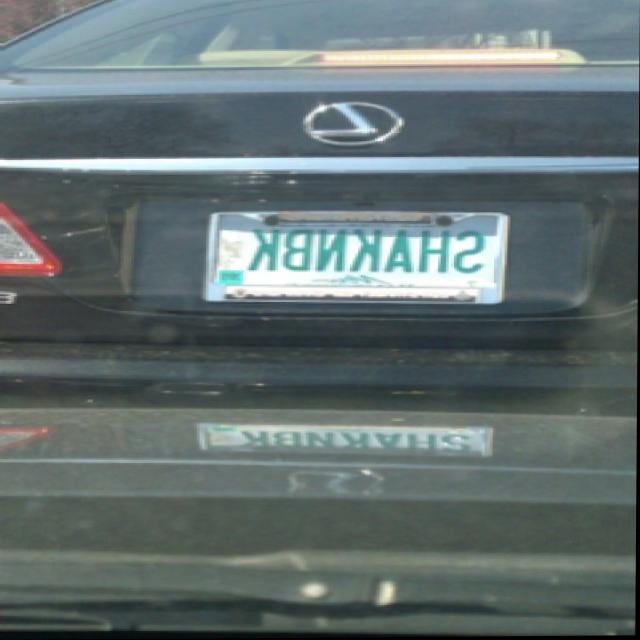licence: (203, 211, 511, 303)
